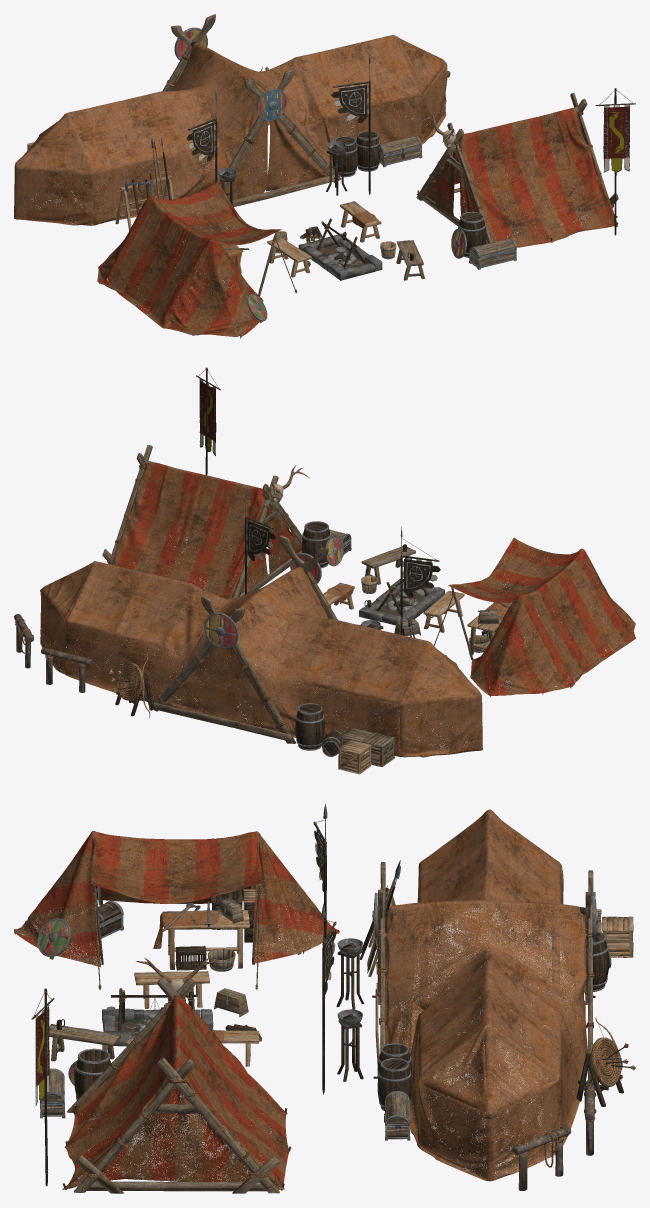
The model's file is shogipuyo_diorama.glb.
3 renders of one model, top to bottom at view 1: azimuth 30°, elevation 25°; view 2: azimuth 150°, elevation 25°; view 3: azimuth 270°, elevation 25°, orthographic. The views are drawn at different scales.
Visible parts, largest first — view 1: KB3D_VAL_BldgSM_E_TentB, KB3D_VAL_BldgSM_E_TentA, KB3D_VAL_BldgSM_E_TentC, KB3D_VAL_BldgSM_E_Bonfire, KB3D_VAL_BldgSM_E_FlagD, KB3D_VAL_BldgSM_E_BarrelA, KB3D_VAL_BldgSM_E_FlagA, KB3D_VAL_BldgSM_E_WeaponRack, KB3D_VAL_BldgSM_E_BarrelC, KB3D_VAL_BldgSM_E_FlagB, KB3D_VAL_BldgSM_E_ChestC, KB3D_VAL_BldgSM_E_ChestA (+4 smaller); view 2: KB3D_VAL_BldgSM_E_TentB, KB3D_VAL_BldgSM_E_TentC, KB3D_VAL_BldgSM_E_TentA, KB3D_VAL_BldgSM_E_CrateB, KB3D_VAL_BldgSM_E_Bonfire, KB3D_VAL_BldgSM_E_BarrelB, KB3D_VAL_BldgSM_E_FlagB, KB3D_VAL_BldgSM_E_Laundry, KB3D_VAL_BldgSM_E_Target, KB3D_VAL_BldgSM_E_BarrelC, KB3D_VAL_BldgSM_E_FlagD, KB3D_VAL_BldgSM_E_Table (+3 smaller); view 3: KB3D_VAL_BldgSM_E_TentB, KB3D_VAL_BldgSM_E_TentA, KB3D_VAL_BldgSM_E_TentC, KB3D_VAL_BldgSM_E_Table, KB3D_VAL_BldgSM_E_Laundry, KB3D_VAL_BldgSM_E_Target, KB3D_VAL_BldgSM_E_Bonfire, KB3D_VAL_BldgSM_E_BarrelA, KB3D_VAL_BldgSM_E_FlagD, KB3D_VAL_BldgSM_E_BenchA, KB3D_VAL_BldgSM_E_CrateB, KB3D_VAL_BldgSM_E_BarrelC (+14 smaller).
Boxes of the visible parts, bbox=[...] form: KB3D_VAL_BldgSM_E_TentB: bbox=[14, 14, 447, 225]; KB3D_VAL_BldgSM_E_TentA: bbox=[416, 93, 618, 247]; KB3D_VAL_BldgSM_E_TentC: bbox=[97, 182, 297, 338]; KB3D_VAL_BldgSM_E_Bonfire: bbox=[298, 218, 382, 280]; KB3D_VAL_BldgSM_E_FlagD: bbox=[595, 88, 635, 235]; KB3D_VAL_BldgSM_E_BarrelA: bbox=[332, 130, 380, 177]; KB3D_VAL_BldgSM_E_FlagA: bbox=[331, 53, 370, 194]; KB3D_VAL_BldgSM_E_WeaponRack: bbox=[115, 135, 174, 230]; KB3D_VAL_BldgSM_E_BarrelC: bbox=[451, 211, 486, 258]; KB3D_VAL_BldgSM_E_FlagB: bbox=[186, 89, 217, 183]; KB3D_VAL_BldgSM_E_ChestC: bbox=[469, 238, 516, 269]; KB3D_VAL_BldgSM_E_ChestA: bbox=[379, 135, 422, 166]; KB3D_VAL_BldgSM_E_TentB: bbox=[40, 535, 482, 757]; KB3D_VAL_BldgSM_E_TentC: bbox=[433, 537, 635, 697]; KB3D_VAL_BldgSM_E_TentA: bbox=[102, 445, 309, 598]; KB3D_VAL_BldgSM_E_CrateB: bbox=[338, 727, 395, 774]; KB3D_VAL_BldgSM_E_Bonfire: bbox=[359, 578, 444, 625]; KB3D_VAL_BldgSM_E_BarrelB: bbox=[295, 703, 341, 756]; KB3D_VAL_BldgSM_E_FlagB: bbox=[400, 527, 440, 635]; KB3D_VAL_BldgSM_E_Laundry: bbox=[14, 614, 92, 692]; KB3D_VAL_BldgSM_E_Target: bbox=[109, 653, 153, 717]; KB3D_VAL_BldgSM_E_BarrelC: bbox=[302, 521, 343, 568]; KB3D_VAL_BldgSM_E_FlagD: bbox=[196, 367, 220, 475]; KB3D_VAL_BldgSM_E_Table: bbox=[467, 602, 521, 654]; KB3D_VAL_BldgSM_E_TentB: bbox=[372, 809, 597, 1181]; KB3D_VAL_BldgSM_E_TentA: bbox=[62, 957, 291, 1193]; KB3D_VAL_BldgSM_E_TentC: bbox=[14, 831, 339, 989]; KB3D_VAL_BldgSM_E_Table: bbox=[153, 898, 249, 971]; KB3D_VAL_BldgSM_E_Laundry: bbox=[512, 1083, 596, 1190]; KB3D_VAL_BldgSM_E_Target: bbox=[576, 1017, 635, 1106]; KB3D_VAL_BldgSM_E_Bonfire: bbox=[102, 987, 213, 1046]; KB3D_VAL_BldgSM_E_BarrelA: bbox=[377, 1043, 411, 1110]; KB3D_VAL_BldgSM_E_FlagD: bbox=[31, 988, 54, 1185]; KB3D_VAL_BldgSM_E_BenchA: bbox=[49, 1019, 120, 1061]; KB3D_VAL_BldgSM_E_CrateB: bbox=[583, 909, 633, 957]; KB3D_VAL_BldgSM_E_BarrelC: bbox=[68, 1048, 113, 1100].
Bounding box in the file's own units: 13.72 × 4.34 × 12.18.
Materials: 24 (24 with a texture image).
